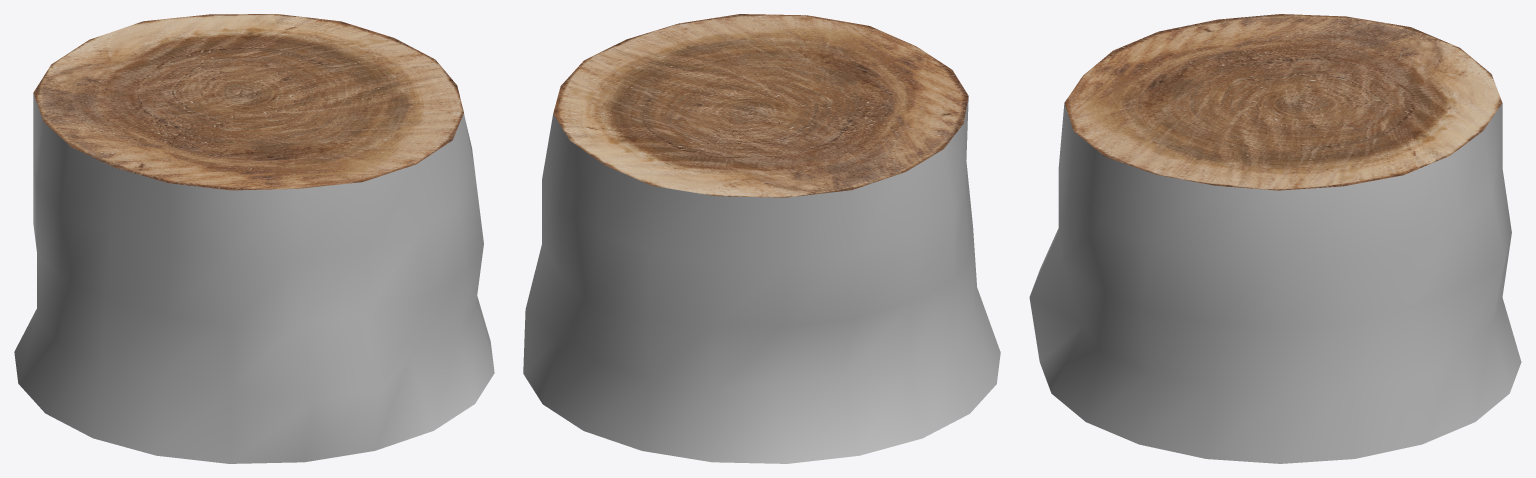
File: MDL_Toco.fbx
3 renders of one model, left to right at view 1: azimuth 30°, elevation 25°; view 2: azimuth 150°, elevation 25°; view 3: azimuth 270°, elevation 25°, orthographic.
Parts seen in each view (by area): view 1: pCylinder1; view 2: pCylinder1; view 3: pCylinder1.
Boxes of the visible parts, x1,y1,x2,y2 form: pCylinder1: (14, 14, 494, 463); pCylinder1: (523, 14, 1000, 463); pCylinder1: (1029, 14, 1521, 463).
Size of the model in its own units: 2.17 by 1.29 by 2.22.
